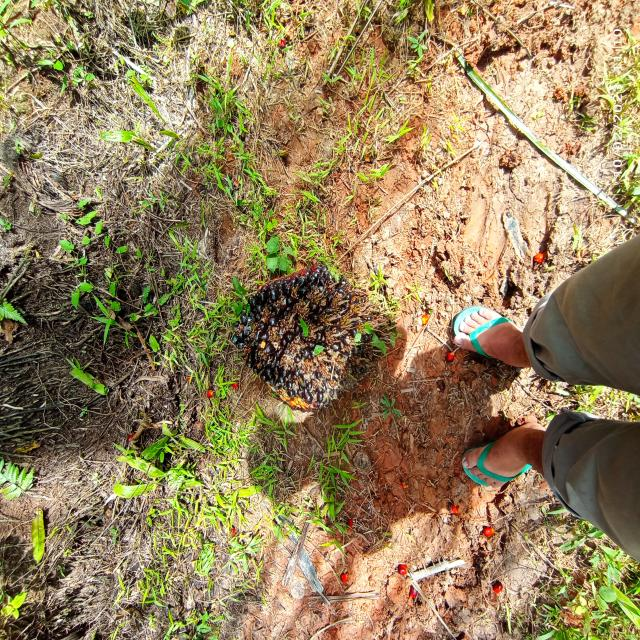fraksi 00: (205, 237, 399, 468)
